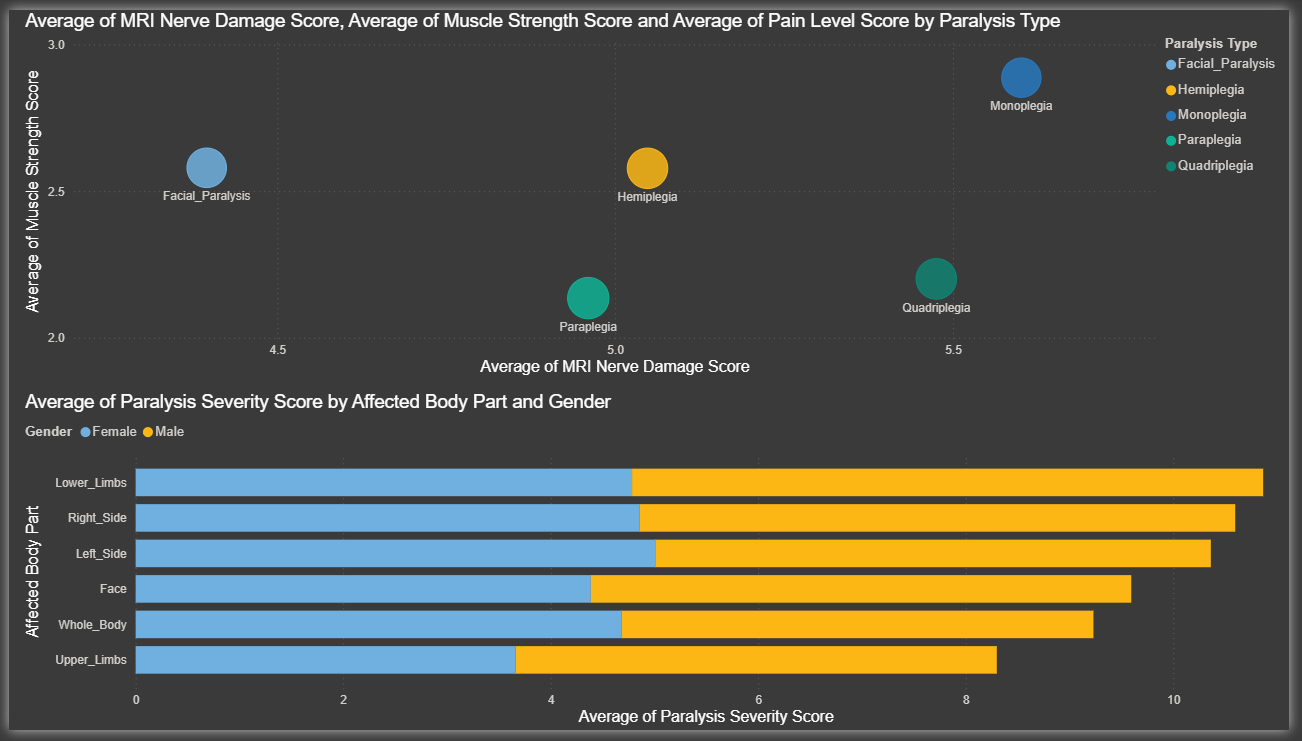

Layout of this report page (visuals, bound fields, positions):
{"tool":"powerbi","page":{"name":"Clinical Analysis","canvas":[1280,720],"ordinal":2},"visuals":[{"type":"scatterChart","fields":{"X":["Avg(Paralysis Recovery Intelligence Dashboard.MRI_Nerve_Damage_Score)"],"Y":["Avg(Paralysis Recovery Intelligence Dashboard.Muscle_Strength_Score)"],"Size":["Avg(Paralysis Recovery Intelligence Dashboard.Pain_Level_Score)"],"Series":["Paralysis Recovery Intelligence Dashboard.Paralysis_Type"]},"box":[10.6,0,1269.7,370.6],"z":0},{"type":"barChart","fields":{"Category":["Paralysis Recovery Intelligence Dashboard.Affected_Body_Part"],"Y":["Avg(Paralysis Recovery Intelligence Dashboard.Paralysis_Severity_Score)"],"Series":["Paralysis Recovery Intelligence Dashboard.Gender"]},"box":[11,381,1269,339],"z":1000}]}

Visuals, with their boxes in screenshot pixels (x1, y1, x2, y2), scaled from the page's 1280x720 canvas onto the 1302x741 screenshot:
scatterChart - Avg(Paralysis Recovery Intelligence Dashboard.MRI_Nerve_Damage_Score) x Avg(Paralysis Recovery Intelligence Dashboard.Muscle_Strength_Score): 11,0,1301,381
barChart - Paralysis Recovery Intelligence Dashboard.Affected_Body_Part x Avg(Paralysis Recovery Intelligence Dashboard.Paralysis_Severity_Score): 11,392,1301,740
